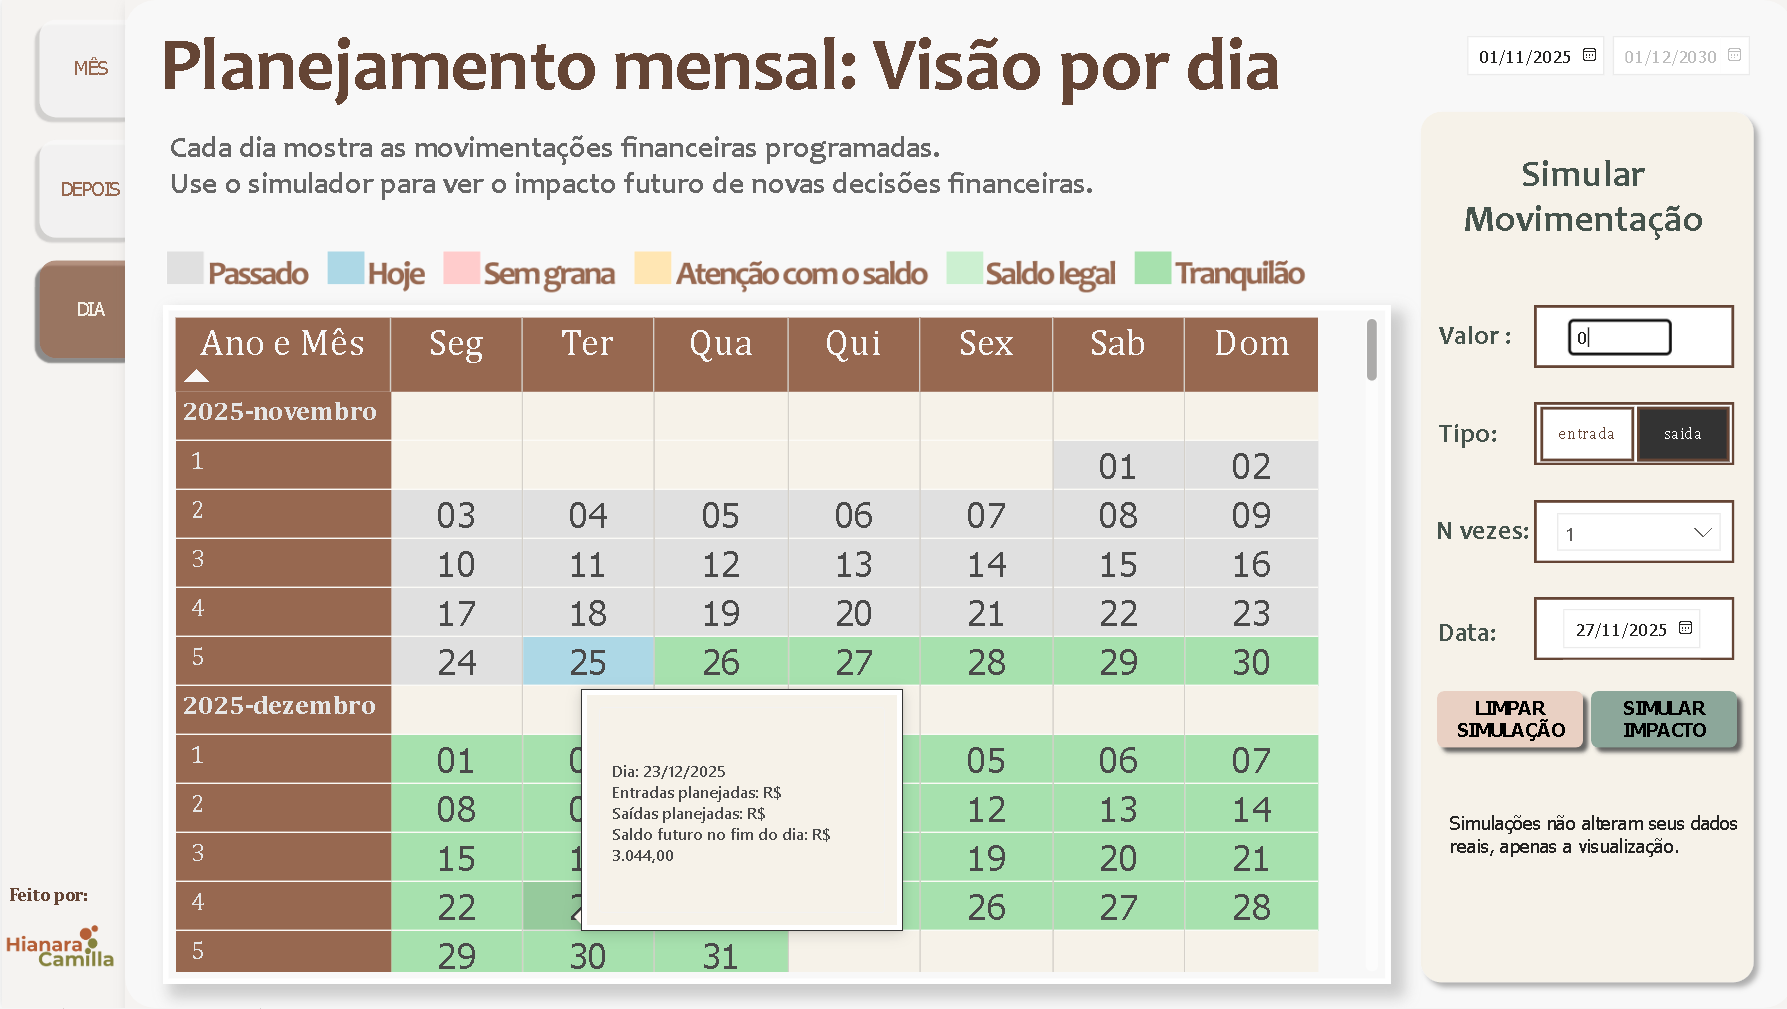

The dashboard page shown, as its layout file describes it:
{"tool":"powerbi","page":{"name":"DIA","canvas":[1280,720],"ordinal":2},"visuals":[{"type":"shape","box":[88,0,1192,720],"z":0},{"type":"slicer","fields":{"Values":["ParamSim_Ativo.Aplicar"]},"box":[1020,476,227,66],"z":1000},{"type":"shape","box":[1004,71,256,640],"z":2000},{"type":"pageNavigator","box":[11,8,96,256],"z":3000},{"type":"textbox","box":[1021.1,103.2,216,88],"z":4000},{"type":"textbox","box":[1019.3,362,108,40],"z":5000},{"type":"textbox","box":[1021,435,85,38],"z":6000},{"type":"textbox","box":[1021.2,222.7,77.1,39.9],"z":7000},{"type":"textbox","box":[1029,575,216,72],"z":8000},{"type":"shape","box":[1094,218,143,45],"z":9000},{"type":"shape","box":[1094,426.4,143.3,45.3],"z":10000},{"type":"textbox","box":[1021.2,292.7,77.3,40],"z":11000},{"type":"slicer","fields":{"Values":["ParamSim_Valor.ParamSim_Valor"]},"box":[1106,218,174,41],"z":12000},{"type":"slicer","fields":{"Values":["ParamSim_Data.Data"]},"box":[1099,426,181,45],"z":13000},{"type":"slicer","fields":{"Values":["D_Calendario.AnoMes"]},"box":[1033.9,15.6,231.5,48.6],"z":14000},{"type":"textbox","box":[107,8,842,86],"z":15000},{"type":"pivotTable","fields":{"Rows":["D_Calendario.AnoMes","D_Calendario.SemanaMes"],"Columns":["D_Calendario.DiaSemana"],"Values":["M_Medidas_Financeiro.Dia Label"]},"box":[115.5,210.9,876.4,484.5],"z":16000},{"type":"shape","box":[1094.2,269.9,143.3,80],"z":17000},{"type":"shape","box":[1094,356.8,143.3,45.3],"z":18000},{"type":"slicer","fields":{"Values":["ParamSim_Parcelas.ParamSim_Parcelas"]},"box":[1100.7,356.7,136.7,51.3],"z":19000},{"type":"slicer","fields":{"Values":["Param Tipo Sim.Tipo"]},"box":[1102,275,128,76],"z":20000},{"type":"actionButton","box":[1015.6,483.3,120,56.7],"z":21000},{"type":"actionButton","box":[1126.7,483.3,120,56.7],"z":22000},{"type":"textbox","box":[115,87,785,72],"z":23000},{"type":"image","box":[107.3,122.7,833.6,85.5],"z":24000},{"type":"image","box":[0,639,84,72],"z":25000},{"type":"textbox","box":[0,626,76,40],"z":26000}]}

Visuals, with their boxes in screenshot pixels (x1, y1, x2, y2), scaled from the page's 1280x720 canvas onto the 1787x1009 screenshot:
shape: crop(123, 0, 1786, 1008)
slicer - ParamSim_Ativo.Aplicar: crop(1424, 667, 1741, 760)
shape: crop(1402, 99, 1759, 996)
pageNavigator: crop(15, 11, 149, 370)
textbox: crop(1426, 145, 1727, 268)
textbox: crop(1423, 507, 1574, 563)
textbox: crop(1425, 610, 1544, 663)
textbox: crop(1426, 312, 1533, 368)
textbox: crop(1437, 806, 1738, 907)
shape: crop(1527, 306, 1727, 369)
shape: crop(1527, 598, 1727, 661)
textbox: crop(1426, 410, 1534, 466)
slicer - ParamSim_Valor.ParamSim_Valor: crop(1544, 306, 1786, 363)
slicer - ParamSim_Data.Data: crop(1534, 597, 1786, 660)
slicer - D_Calendario.AnoMes: crop(1443, 22, 1767, 90)
textbox: crop(149, 11, 1325, 132)
pivotTable - D_Calendario.AnoMes x D_Calendario.SemanaMes: crop(161, 296, 1385, 975)
shape: crop(1528, 378, 1728, 490)
shape: crop(1527, 500, 1727, 563)
slicer - ParamSim_Parcelas.ParamSim_Parcelas: crop(1537, 500, 1728, 572)
slicer - Param Tipo Sim.Tipo: crop(1538, 385, 1717, 492)
actionButton: crop(1418, 677, 1585, 757)
actionButton: crop(1573, 677, 1741, 757)
textbox: crop(161, 122, 1256, 223)
image: crop(150, 172, 1314, 292)
image: crop(0, 895, 117, 996)
textbox: crop(0, 877, 106, 933)
